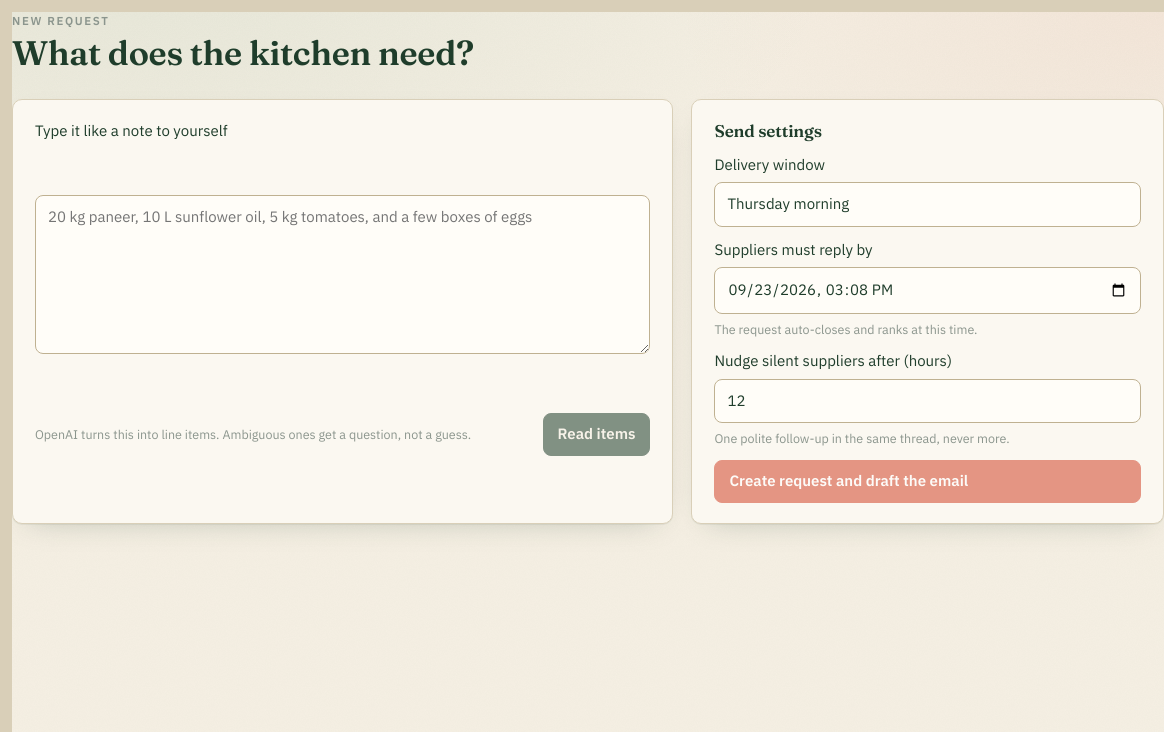
Test: NewRequest › removes a chip with its remove button
In the text box labelled "Type it like a note to yourself": [343, 275] box [35,195,650,354], type "5 kg tomatoes"
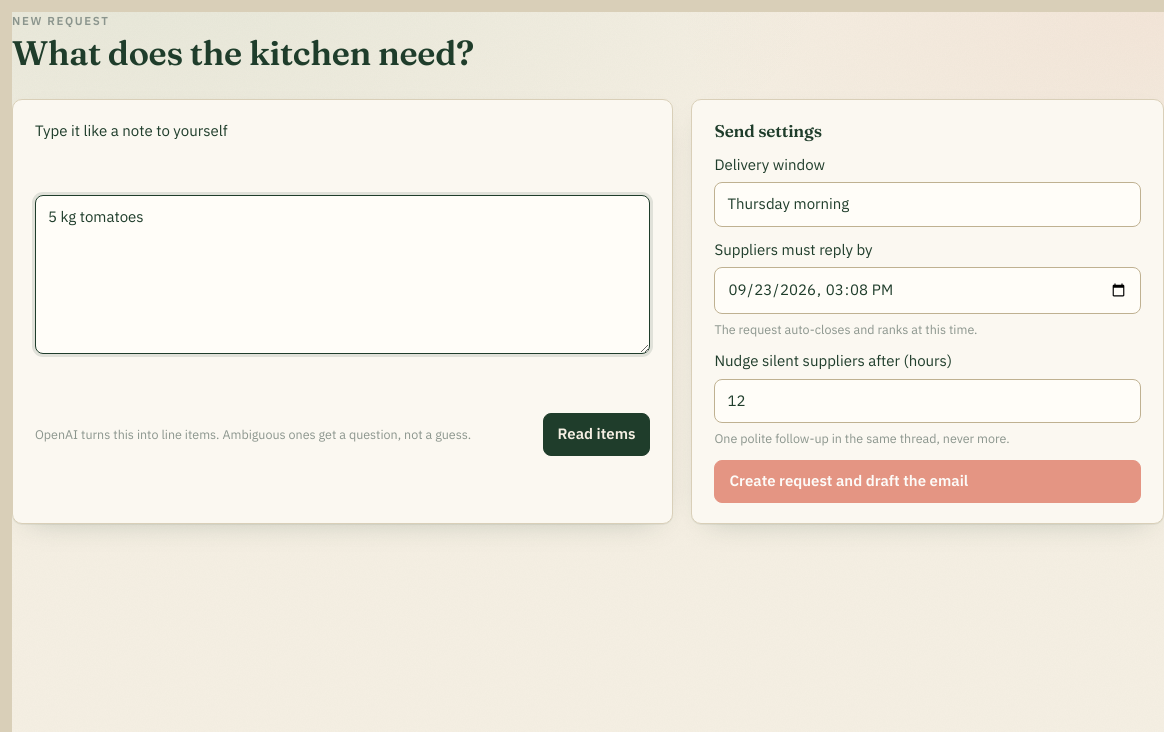
Click the button "Read items": [597, 434] box [543,413,650,456]
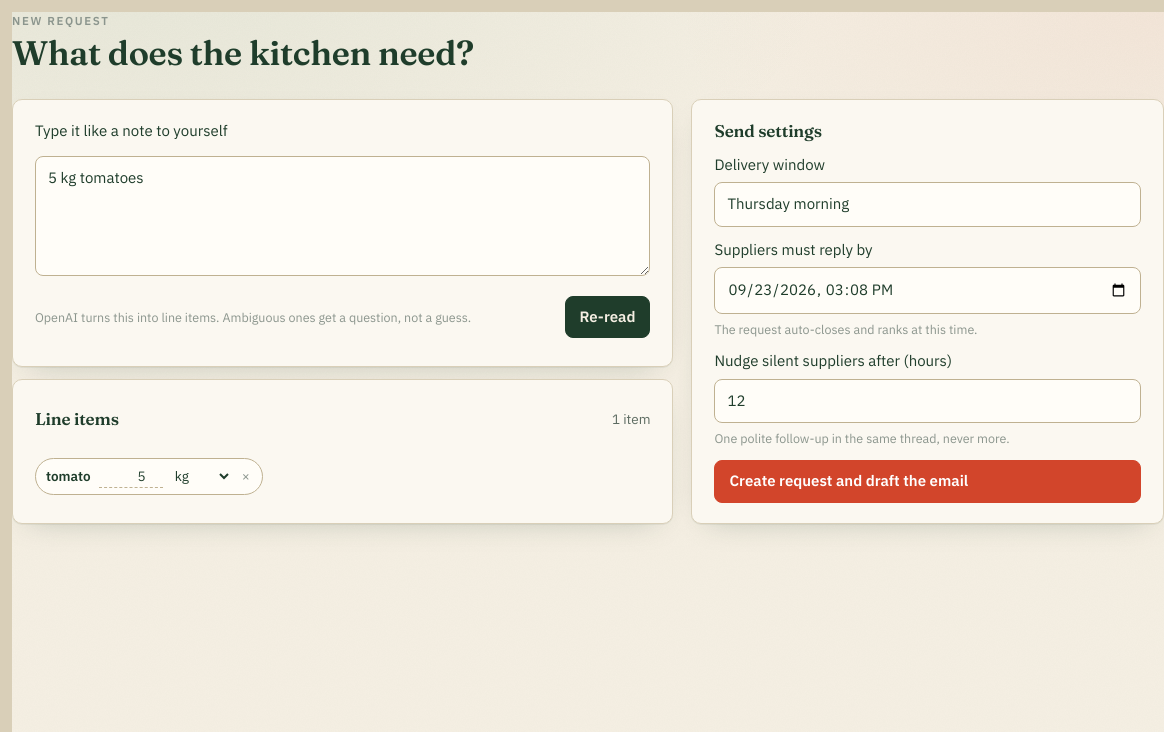
Click the button named "Remove tomato": [246, 476] box [240,466,252,486]
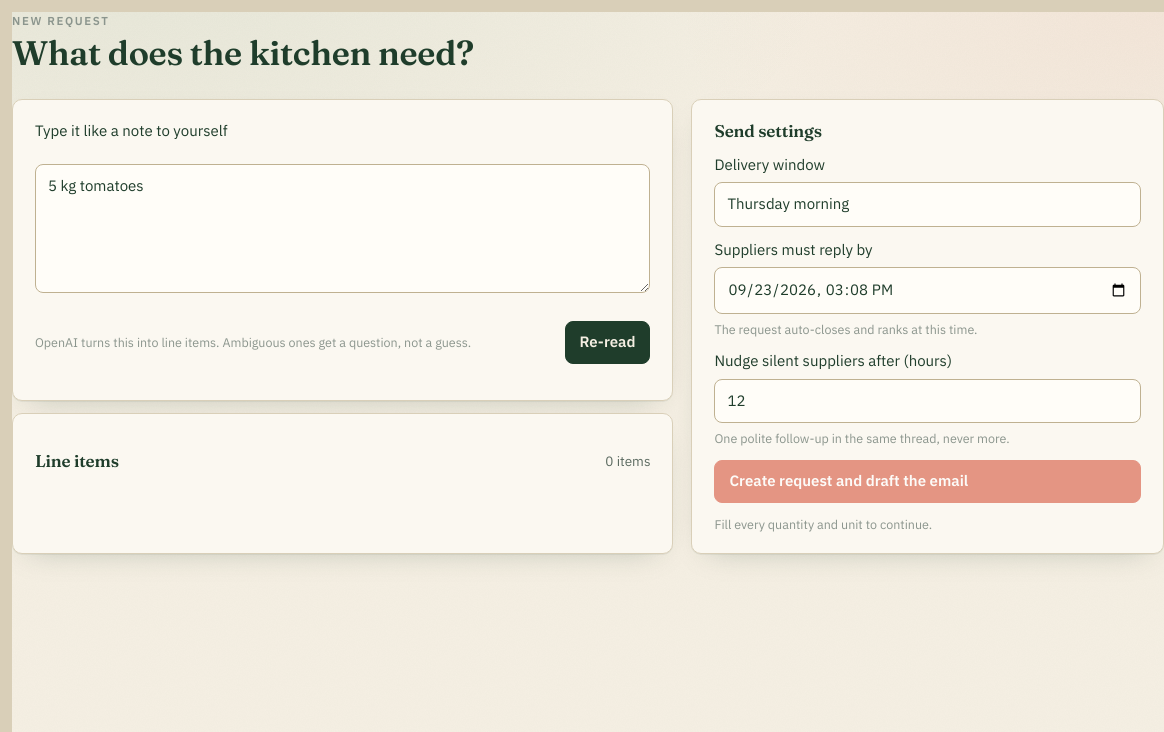
Now the button "Create request and draft the email" is disabled, box [714,460,1141,503]
